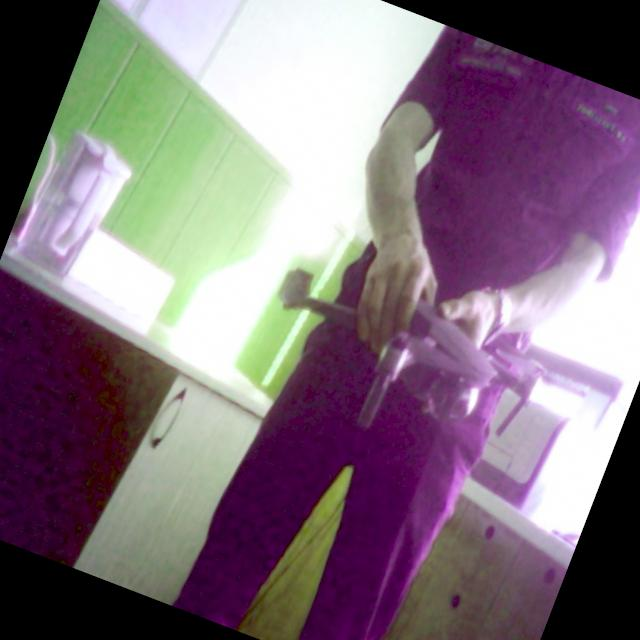drone: (241, 218, 602, 483)
